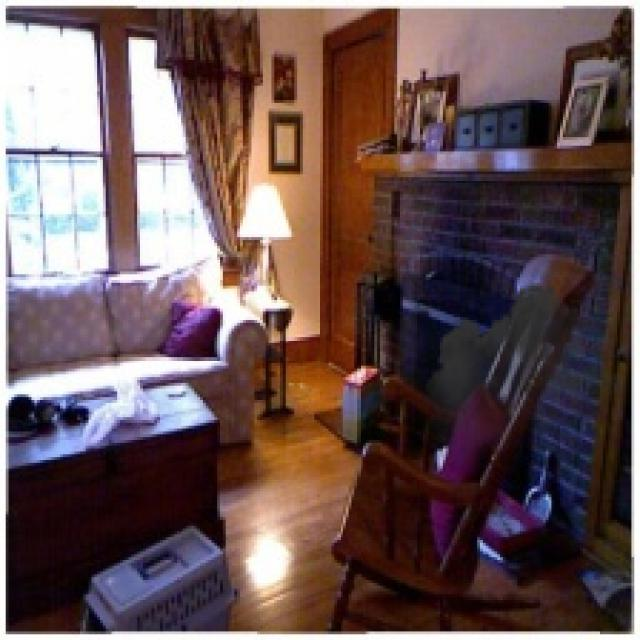smoke: (420, 274, 626, 486)
